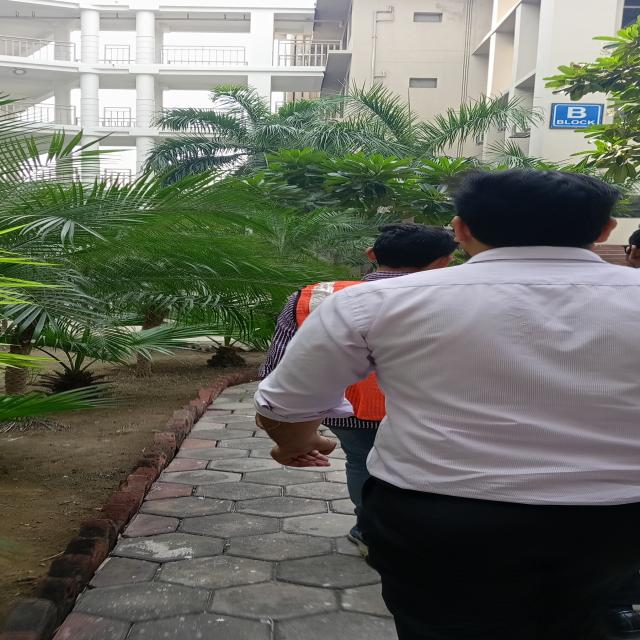unsafe: (256, 170, 638, 640)
